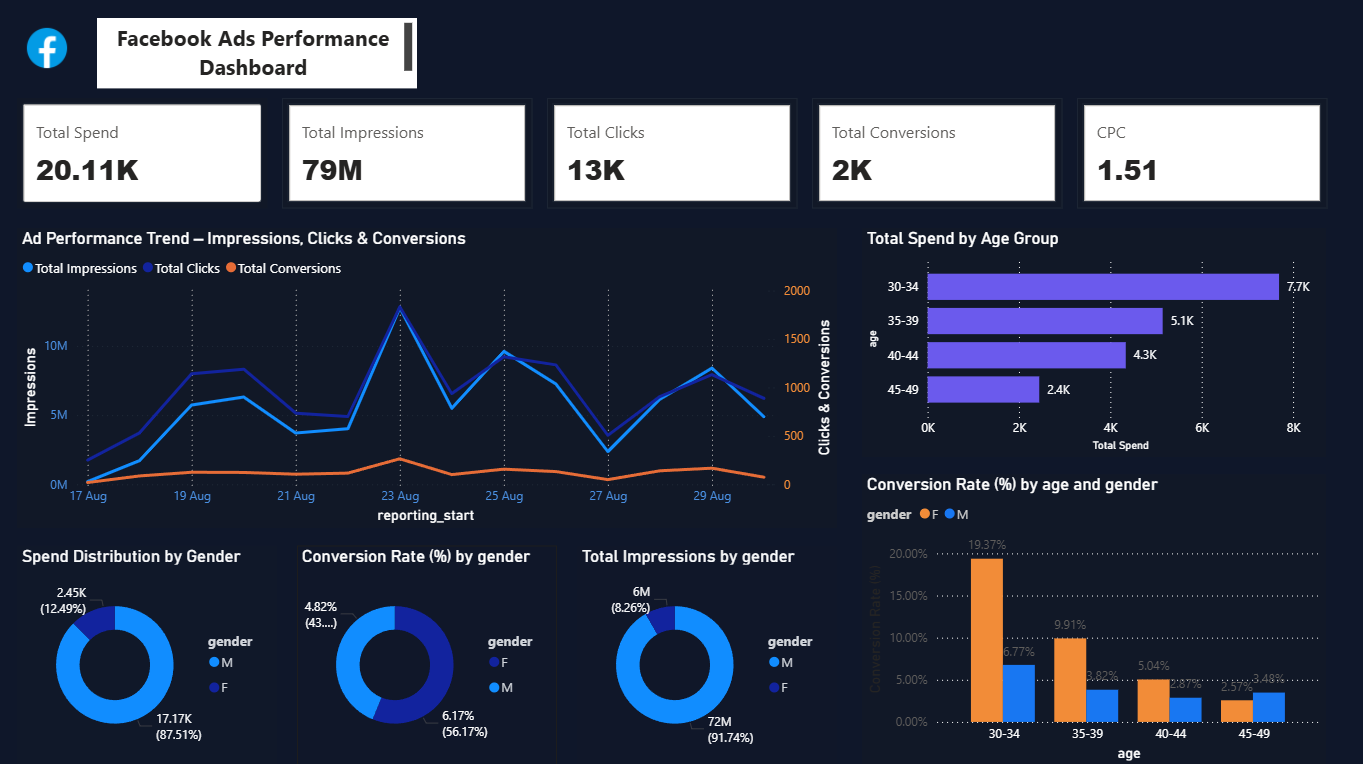

This screenshot's page, from the dashboard's own definition file:
{"tool":"powerbi","page":{"name":"Page 1","canvas":[1366,768],"ordinal":0},"visuals":[{"type":"cardVisual","fields":{"Data":["data.Total Spend"]},"box":[20,100,250,110],"z":0},{"type":"cardVisual","fields":{"Data":["data.Total Impressions"]},"box":[285,100,250,110],"z":1000},{"type":"cardVisual","fields":{"Data":["data.Total Clicks"]},"box":[550,100,250,110],"z":2000},{"type":"cardVisual","fields":{"Data":["data.Total Conversions"]},"box":[815,100,250,110],"z":3000},{"type":"cardVisual","fields":{"Data":["data.CPC"]},"box":[1080,100,250,110],"z":4000},{"type":"lineChart","title":"Ad Performance Trend – Impressions, Clicks & Conversions","fields":{"Y":["data.Total Impressions"],"Category":["data.reporting_start"],"Y2":["data.Total Clicks","data.Total Conversions"]},"box":[20,230,820,300],"z":5000},{"type":"clusteredBarChart","title":"Total Spend by Age Group","fields":{"Category":["data.age"],"Y":["data.Total Spend"]},"box":[865.5,229.9,464.2,228.4],"z":6000},{"type":"donutChart","title":"Spend Distribution by Gender","fields":{"Y":["data.Total Spend"],"Category":["data.gender"]},"box":[20,548,260,220],"z":7000},{"type":"donutChart","fields":{"Category":["data.gender"],"Y":["data.Conversion Rate (%)"]},"box":[300,548,260,220],"z":8000},{"type":"clusteredColumnChart","fields":{"Category":["data.age"],"Series":["data.gender"],"Y":["data.Conversion Rate (%)"]},"box":[865.5,475.9,464.2,291.4],"z":9000},{"type":"donutChart","fields":{"Category":["data.gender"],"Y":["data.Total Impressions"]},"box":[580,548,260,220],"z":10000},{"type":"image","box":[20,20,60,60],"z":11000},{"type":"textbox","box":[100,20,320,70],"z":12000}]}

Visuals, with their boxes in screenshot pixels (x1, y1, x2, y2), scaled from the page's 1366x768 canvas onto the 1363x764 screenshot:
cardVisual - data.Total Spend: select_region(20, 99, 269, 209)
cardVisual - data.Total Impressions: select_region(284, 99, 534, 209)
cardVisual - data.Total Clicks: select_region(549, 99, 798, 209)
cardVisual - data.Total Conversions: select_region(813, 99, 1063, 209)
cardVisual - data.CPC: select_region(1078, 99, 1327, 209)
"Ad Performance Trend – Impressions, Clicks & Conversions" lineChart: select_region(20, 229, 838, 527)
"Total Spend by Age Group" clusteredBarChart: select_region(864, 229, 1327, 456)
"Spend Distribution by Gender" donutChart: select_region(20, 545, 279, 763)
donutChart - data.gender x data.Conversion Rate (%): select_region(299, 545, 559, 763)
clusteredColumnChart - data.age x data.gender: select_region(864, 473, 1327, 763)
donutChart - data.gender x data.Total Impressions: select_region(579, 545, 838, 763)
image: select_region(20, 20, 80, 80)
textbox: select_region(100, 20, 419, 90)
